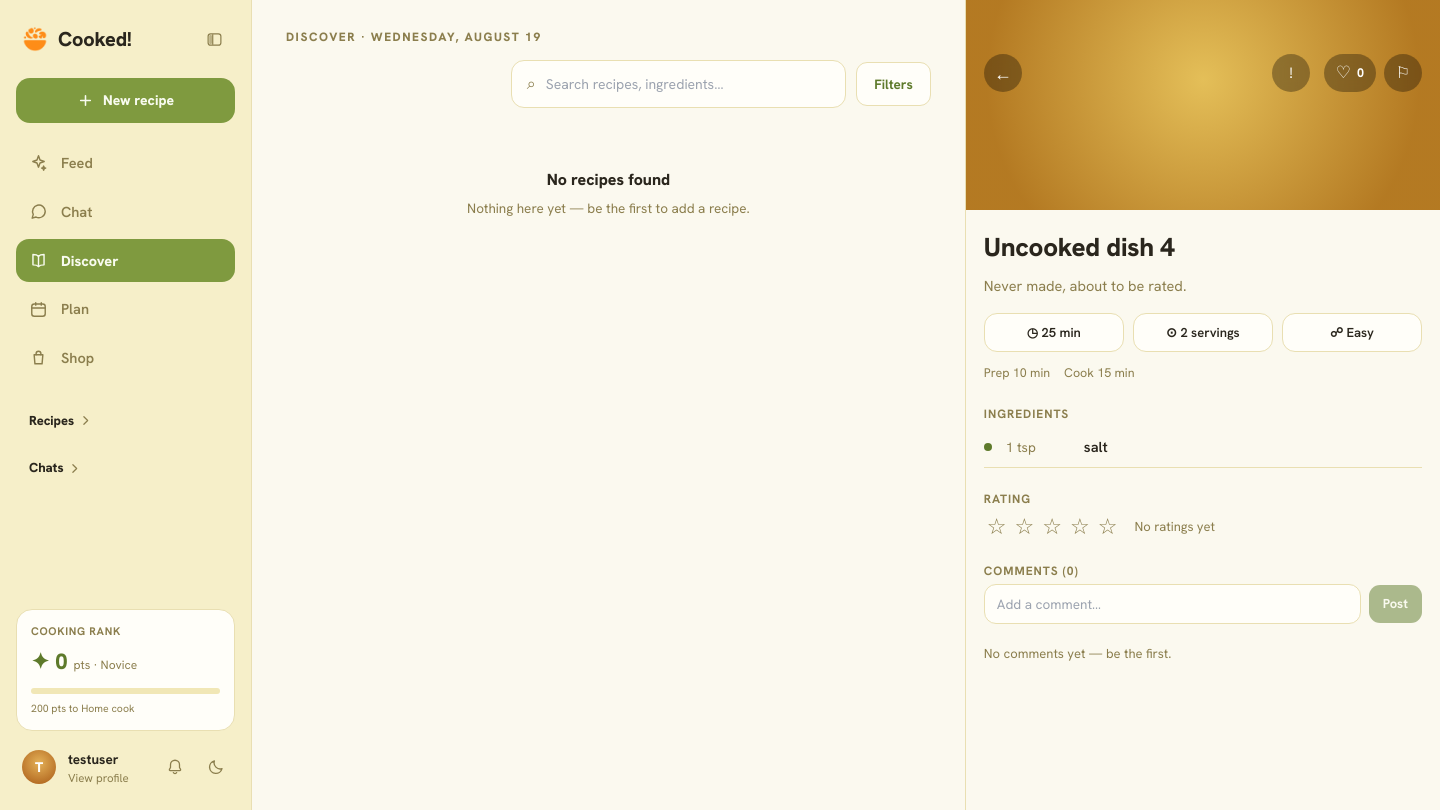
Test: rating a recipe with no cook behind it › writes neither a cook nor a rating when the prompt is dismissed
Expected: the text "No ratings yet" is shown, [1134, 517, 1215, 536]
Click the button named "Rate 3 out of 5".
click(1052, 527)  # box [1039, 514, 1065, 540]
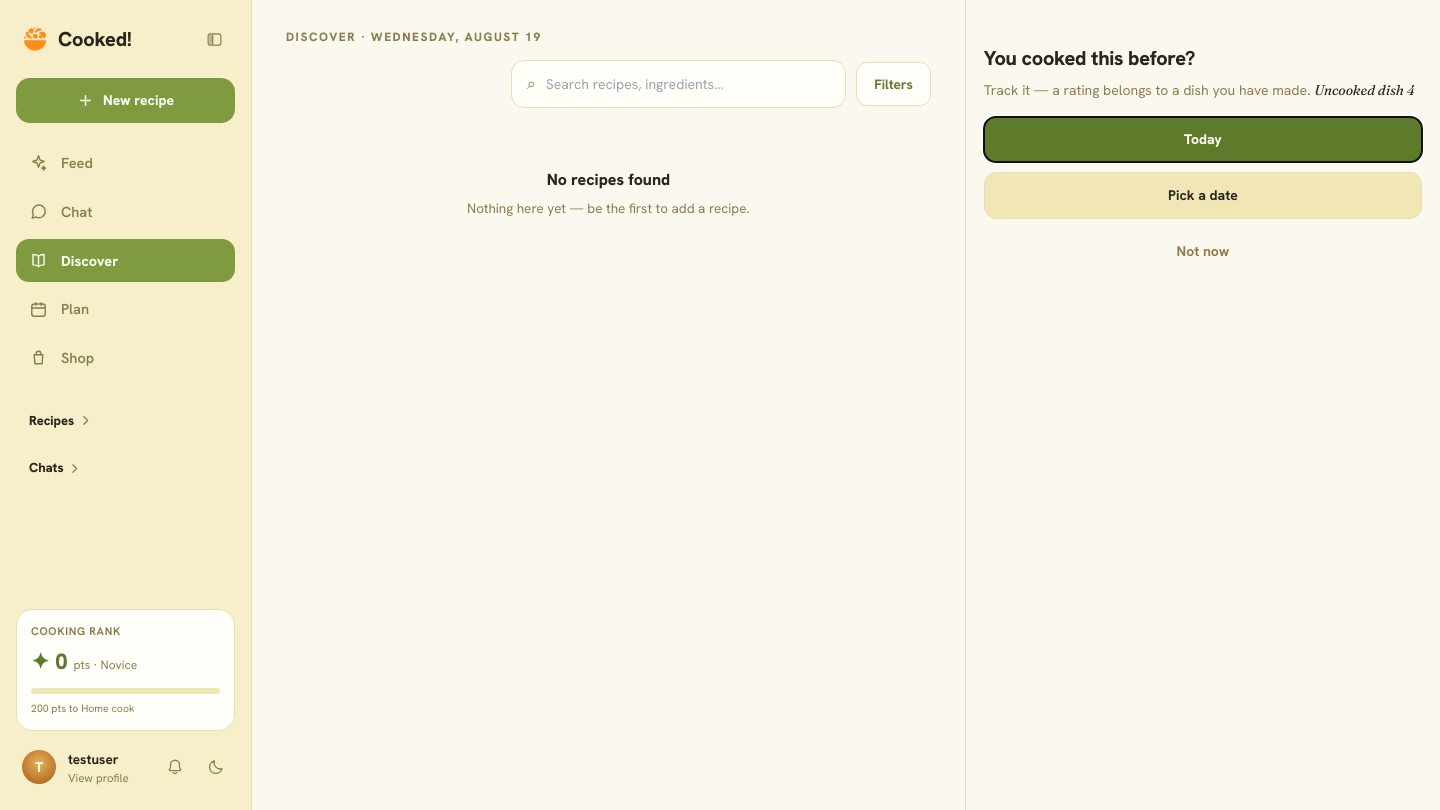
Click the button "Not now".
click(1203, 252)  # box [984, 229, 1422, 274]
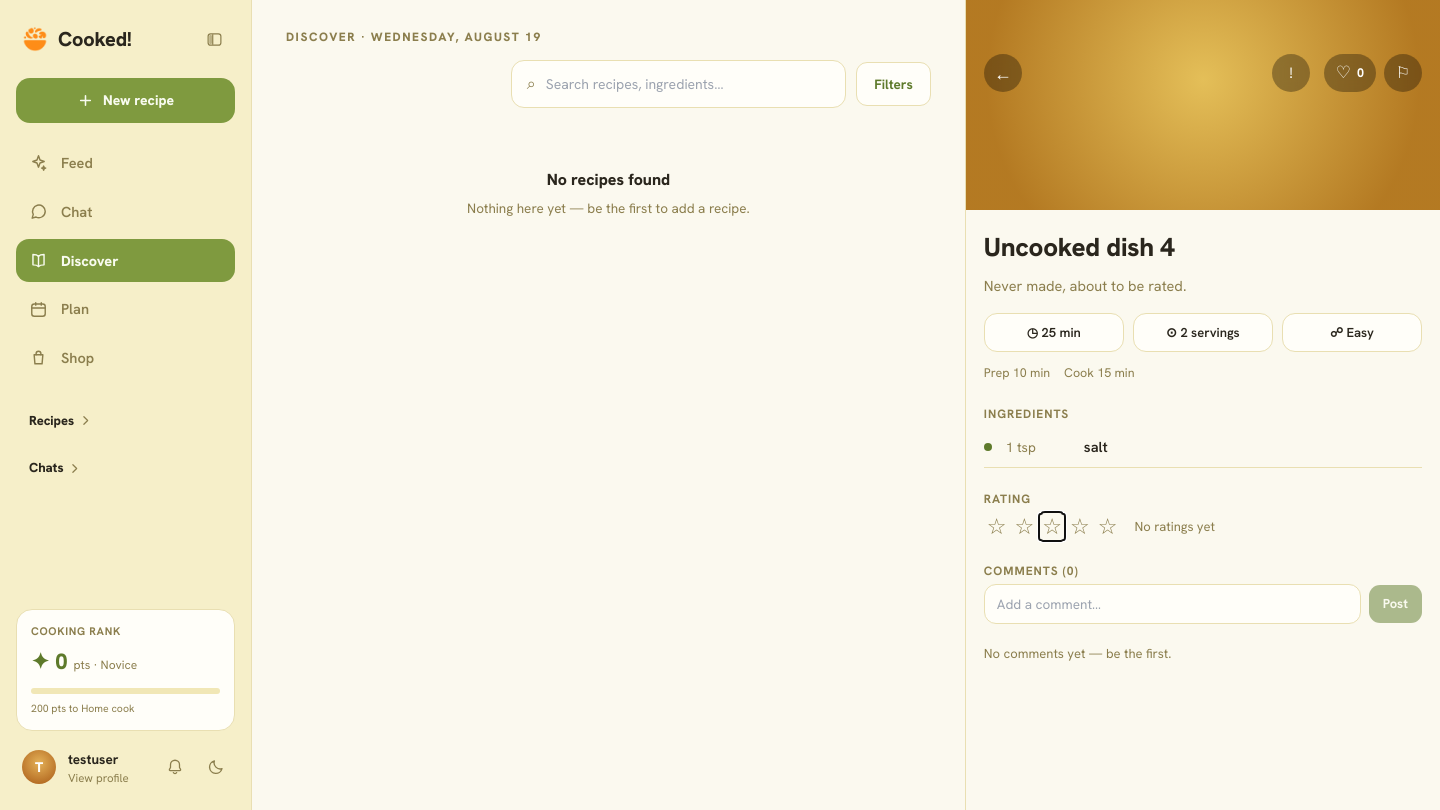
Now the heading "You cooked this before?" is gone
Now no the button "Today" are shown
